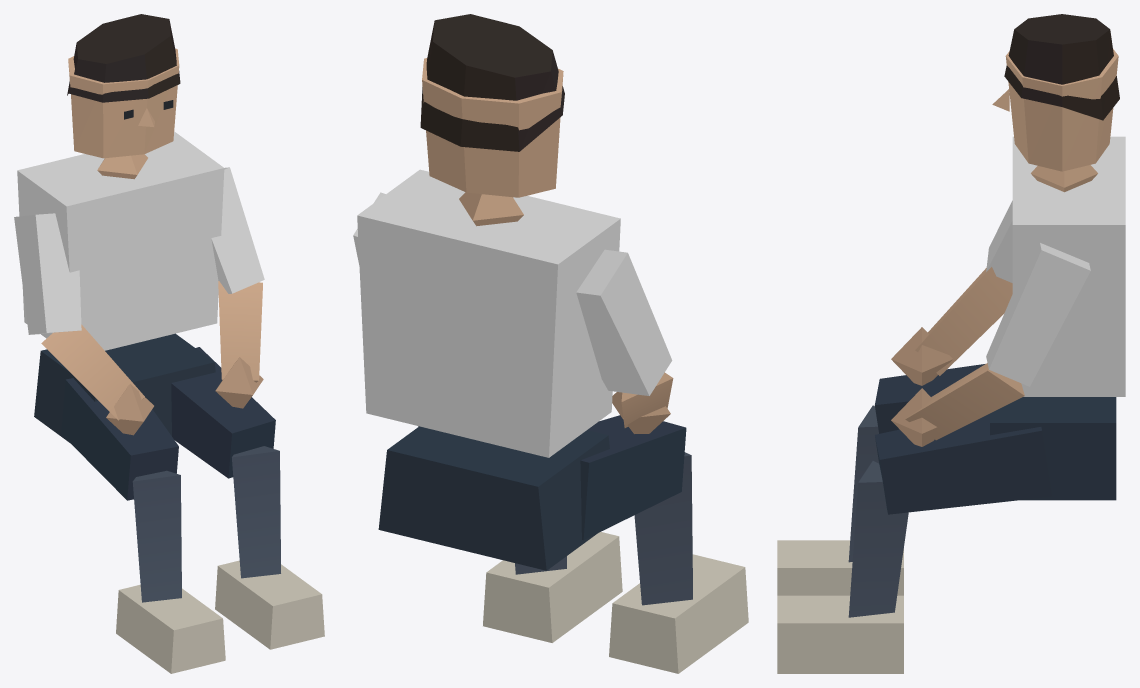
File: fan-01.glb
3 renders of one model, left to right at view 1: azimuth 30°, elevation 25°; view 2: azimuth 150°, elevation 25°; view 3: azimuth 270°, elevation 25°, orthographic. The views are drawn at different scales.
Visible parts, largest first — view 1: fan-01; view 2: fan-01; view 3: fan-01.
Part boxes in pixels (x1,y1,x2,y2): fan-01: (14,14,324,673); fan-01: (353,14,748,673); fan-01: (777,14,1125,673).
Bounding box in the file's own units: 0.6479 × 1.49 × 0.77.
